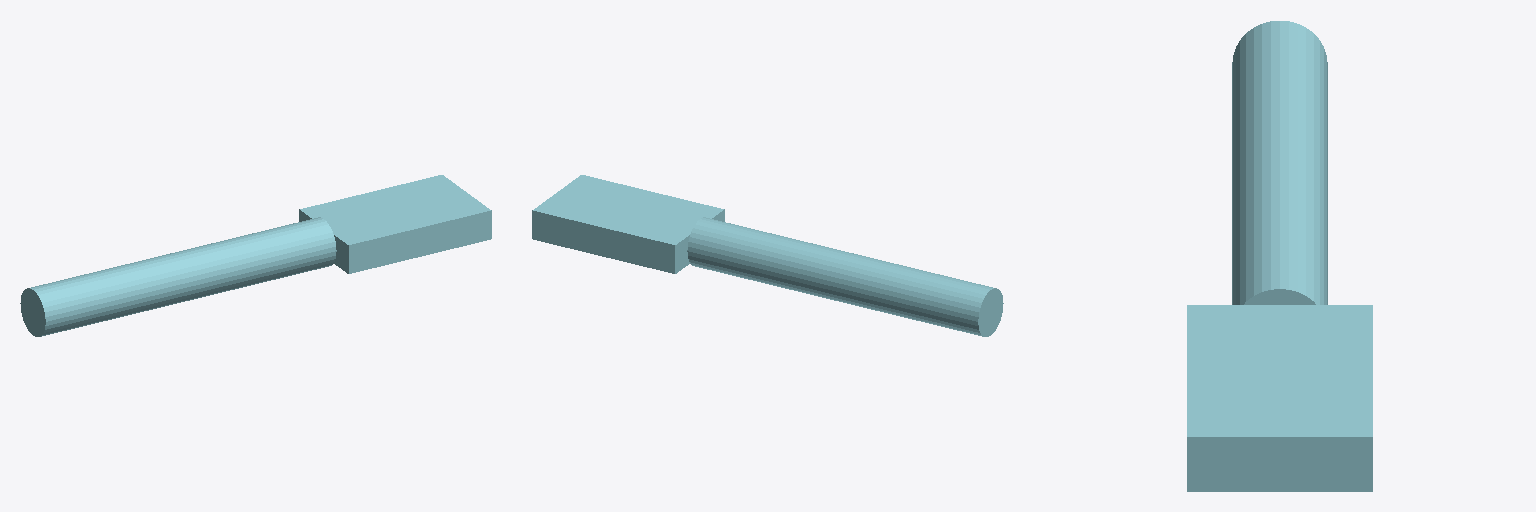
The robot description file, URDF, robot "cylinder_spatula_v6001":
<?xml version="1.0"?>
<robot name="cylinder_spatula_v6001">

  <link name="cylinder_spatula_v6001">
    <!-- Handle -->
    <visual>
      <origin xyz="0 0 0" rpy="0 1.5707963267948966 0"/>
      <geometry>
        <cylinder length="0.17629030190395292" radius="0.013226356021518093"/>
      </geometry>
      <material name="material">
        <color rgba="0.639 0.847 0.882 1.0"/>
      </material>
    </visual>
    <collision>
      <origin xyz="0 0 0" rpy="0 1.5707963267948966 0"/>
      <geometry>
        <cylinder length="0.17629030190395292" radius="0.013226356021518093"/>
      </geometry>
    </collision>

    <!-- Head -->
    <visual>
      <origin xyz="0.1314755701986071 0 0" rpy="0 0 0"/>
      <geometry>
        <box size="0.08666083849326124 0.05158109741046715 0.01676912966594652"/>
      </geometry>
      <material name="material">
        <color rgba="0.639 0.847 0.882 1.0"/>
      </material>
    </visual>
    <collision>
      <origin xyz="0.1314755701986071 0 0" rpy="0 0 0"/>
      <geometry>
        <box size="0.08666083849326124 0.05158109741046715 0.01676912966594652"/>
      </geometry>
    </collision>

    <inertial>
      <density value="400.0"/>
    </inertial>
  </link>

</robot>

--- Render facts (derived) ---
3 views of the same robot in one strip: view 1: azimuth 30°, elevation 25°; view 2: azimuth 150°, elevation 25°; view 3: azimuth 270°, elevation 25° (orthographic).
Robot: cylinder_spatula_v6001 — 1 links, 0 joints (none); root link cylinder_spatula_v6001; default pose: all joints at 0.
Links seen in each view (by area): view 1: cylinder_spatula_v6001; view 2: cylinder_spatula_v6001; view 3: cylinder_spatula_v6001.
Boxes of the visible links, <box> form: cylinder_spatula_v6001: <box>20,175,491,336</box>; cylinder_spatula_v6001: <box>532,175,1003,336</box>; cylinder_spatula_v6001: <box>1187,21,1372,491</box>.
Size in the robot's own frame: 0.263 by 0.0516 by 0.0265 metres.
Geometry: primitives only (box / cylinder / sphere), no mesh files.
